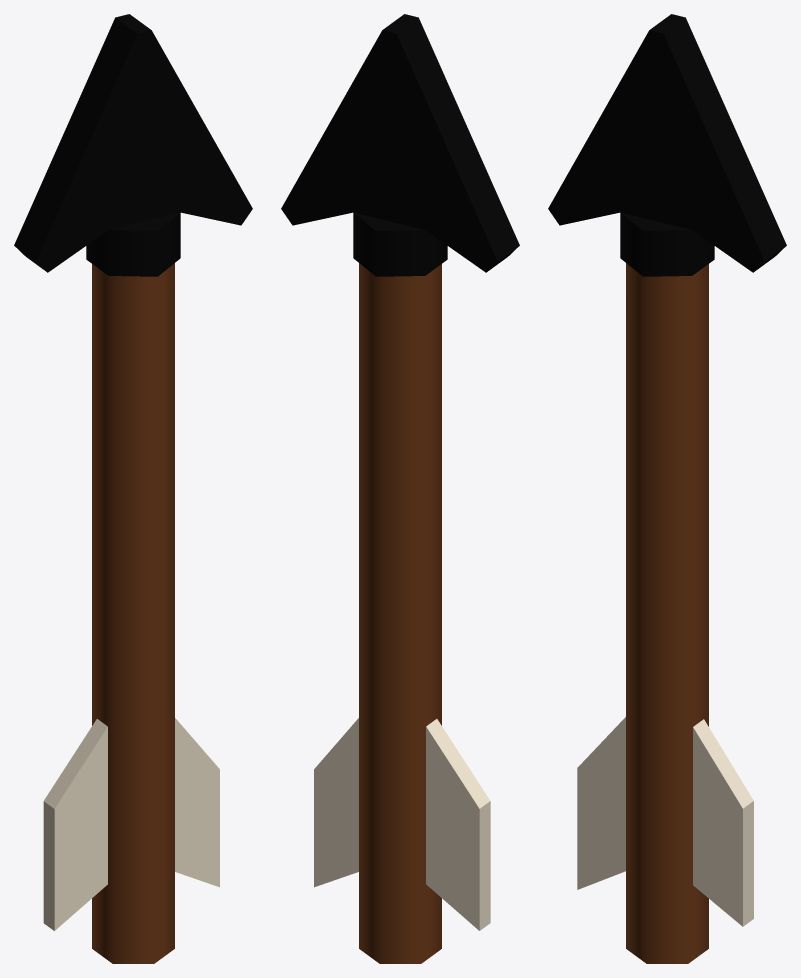
File: CuteFantasy_projectile_arrow.fbx
3 views of the same model, side by side, from view 1: azimuth 30°, elevation 25°; view 2: azimuth 150°, elevation 25°; view 3: azimuth 330°, elevation 25° (orthographic).
Visible parts, largest first — view 1: CuteFantasy_projectile_arrow; view 2: CuteFantasy_projectile_arrow; view 3: CuteFantasy_projectile_arrow.
Part boxes in pixels (x1,y1,x2,y2): CuteFantasy_projectile_arrow: [14, 14, 252, 963]; CuteFantasy_projectile_arrow: [281, 14, 519, 963]; CuteFantasy_projectile_arrow: [548, 14, 786, 963].
Bounding box in the file's own units: 0.211 × 0.8603 × 0.0819.
